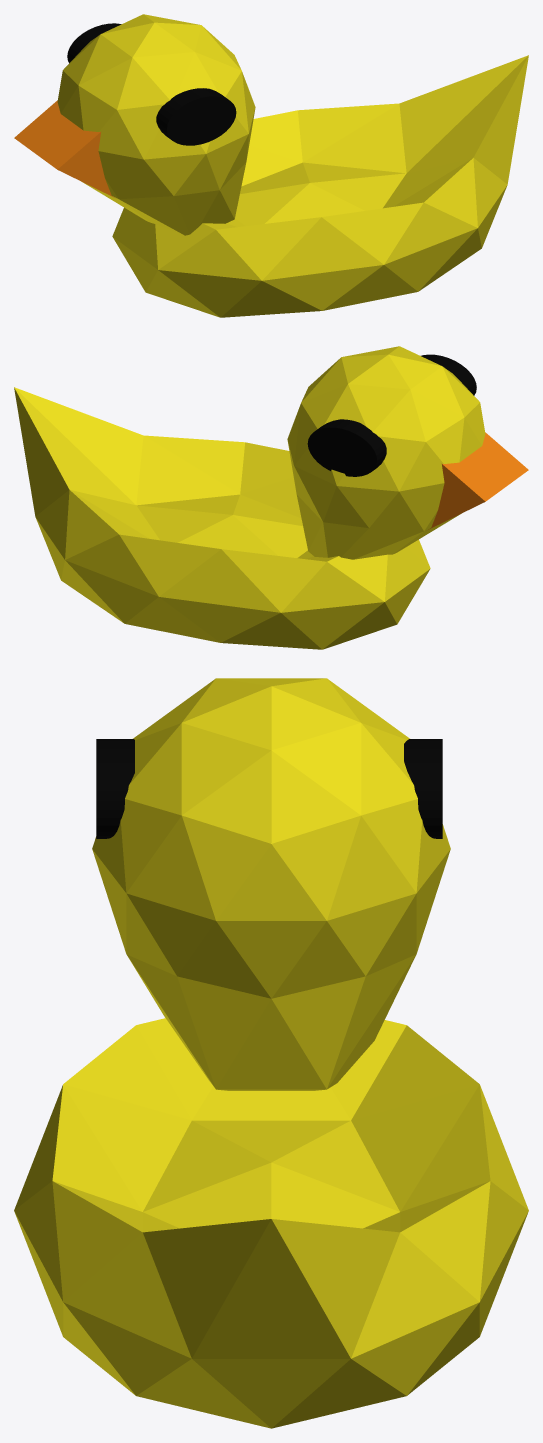
File: duck.fbx
3 views of the same model, one above another, from view 1: azimuth 30°, elevation 25°; view 2: azimuth 150°, elevation 25°; view 3: azimuth 270°, elevation 25° (orthographic). The views are drawn at different scales.
Visible parts, largest first — view 1: Icosphere, Icosphere.001, Cube, Cylinder, Cylinder.001; view 2: Icosphere, Icosphere.001, Cube, Cylinder.001, Cylinder; view 3: Icosphere, Icosphere.001, Cylinder, Cylinder.001.
Boxes of the visible parts, x1,y1,x2,y2 form: Icosphere: (112, 55, 528, 317); Icosphere.001: (57, 14, 255, 235); Cube: (14, 100, 114, 197); Cylinder: (156, 88, 236, 145); Cylinder.001: (67, 23, 121, 63); Icosphere: (14, 387, 430, 649); Icosphere.001: (287, 346, 485, 559); Cube: (428, 432, 528, 529); Cylinder.001: (307, 419, 386, 476); Cylinder: (421, 354, 476, 395); Icosphere: (14, 1018, 528, 1428); Icosphere.001: (92, 678, 450, 1090); Cylinder: (96, 739, 134, 838); Cylinder.001: (404, 739, 442, 838).
Size of the model in its own units: 552 by 294 by 287.
